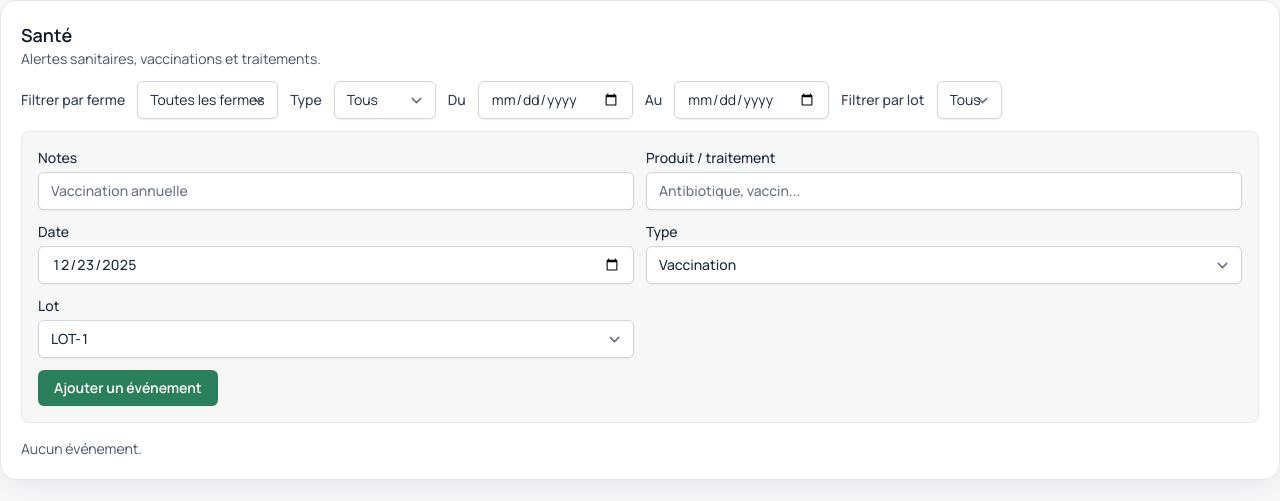
Test: SantePage › soumet un nouvel événement
This screenshot has width=1280, height=501.
Note: Choisir la ferme f2 restreint la liste des lots à l2
Select "Ferme Sud" in the dropdown labelled "Filtrer par ferme": (208, 100) [137,81,278,119]
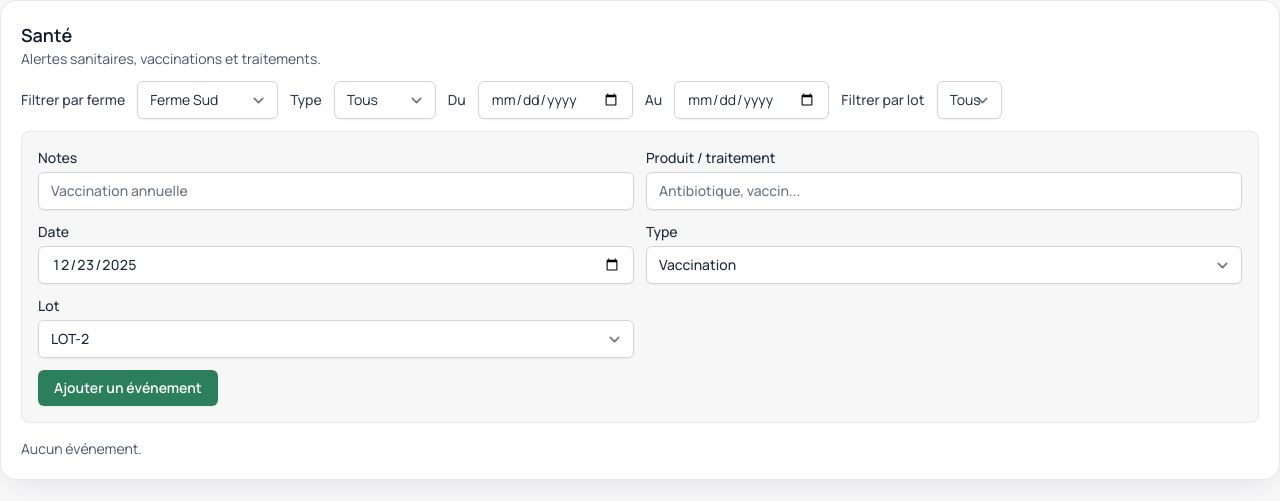
Check: the dropdown labelled "Lot" shows "LOT-2", box [38,320,634,358]
In the field labelled "Notes": (336, 191) [38,172,634,210], type "Nouveau"
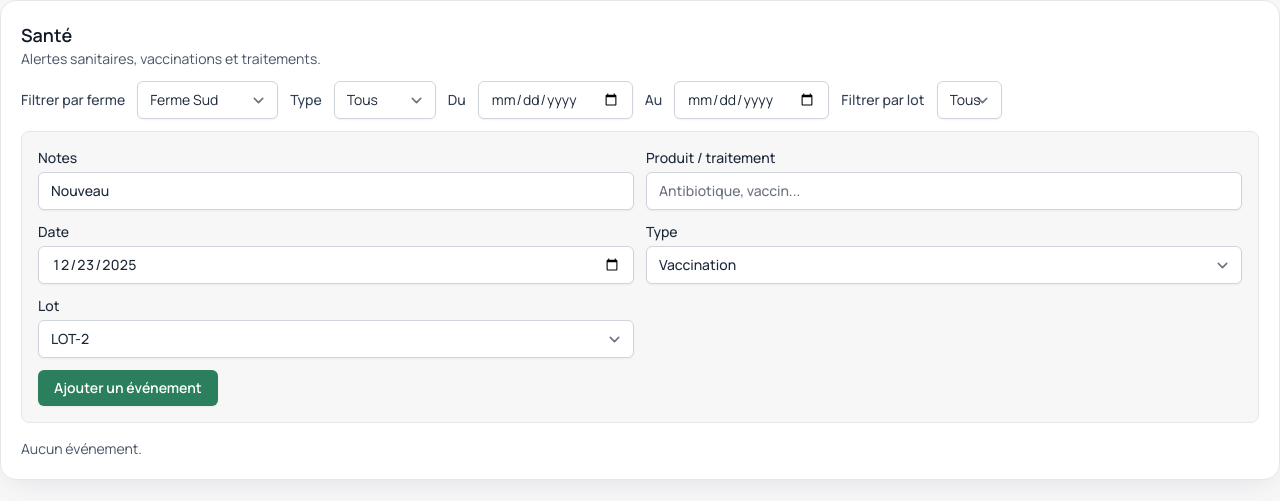
In the field labelled "Produit / traitement": (944, 191) [646,172,1242,210], type "Antibiotique"
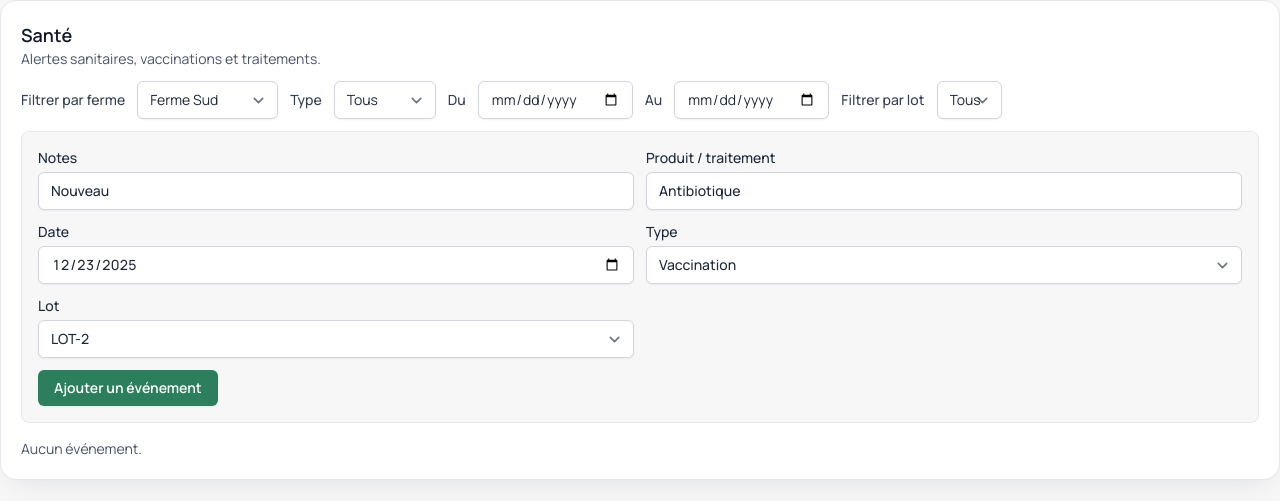
In the date field labelled "Date": (336, 265) [38,246,634,284], type "2025-03-01"
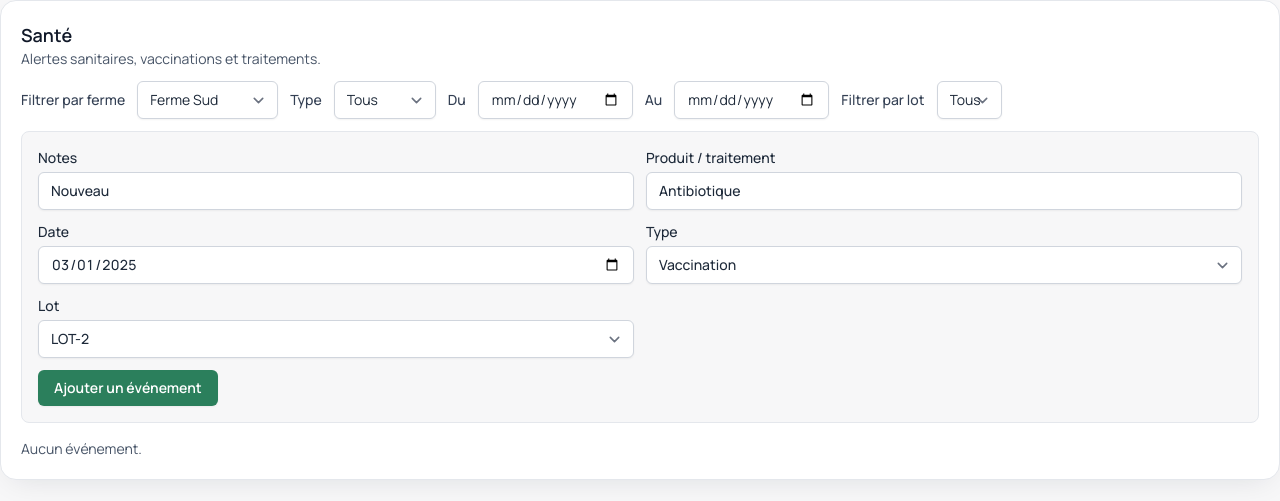
Select "Traitement" in the dropdown labelled "Type" below "Produit / traitement": (944, 265) [646,246,1242,284]
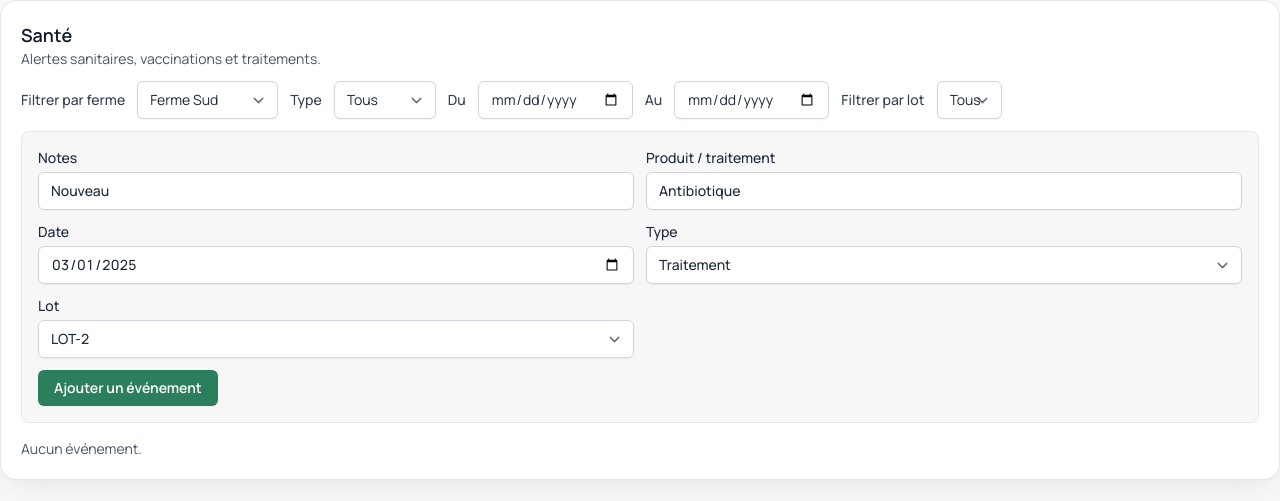
Click the button "Ajouter un événement": (128, 388) [38,370,218,406]
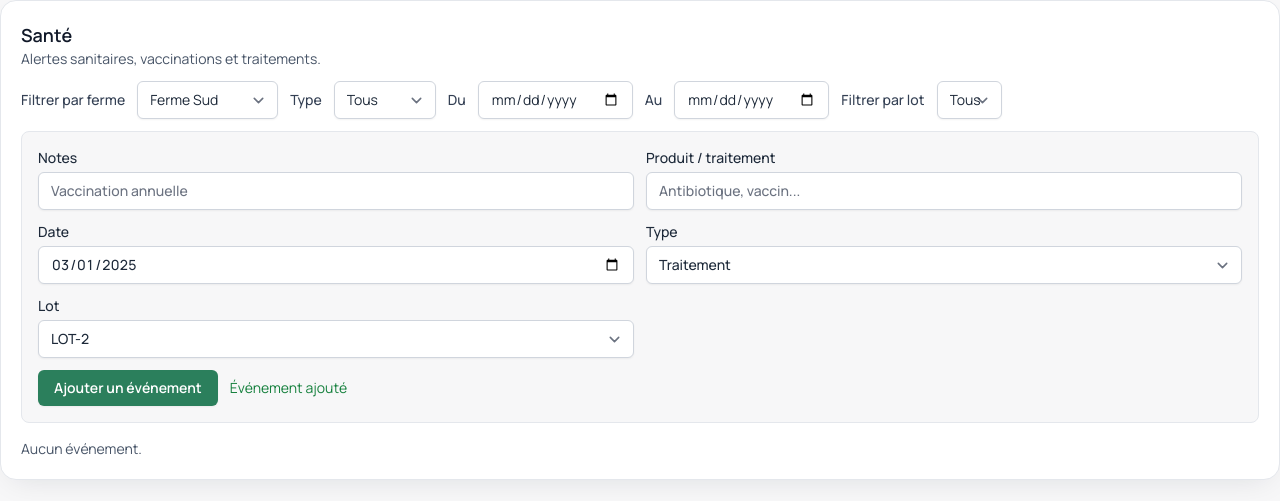
Check: the text "Événement ajouté" is shown, box [230,378,347,398]
